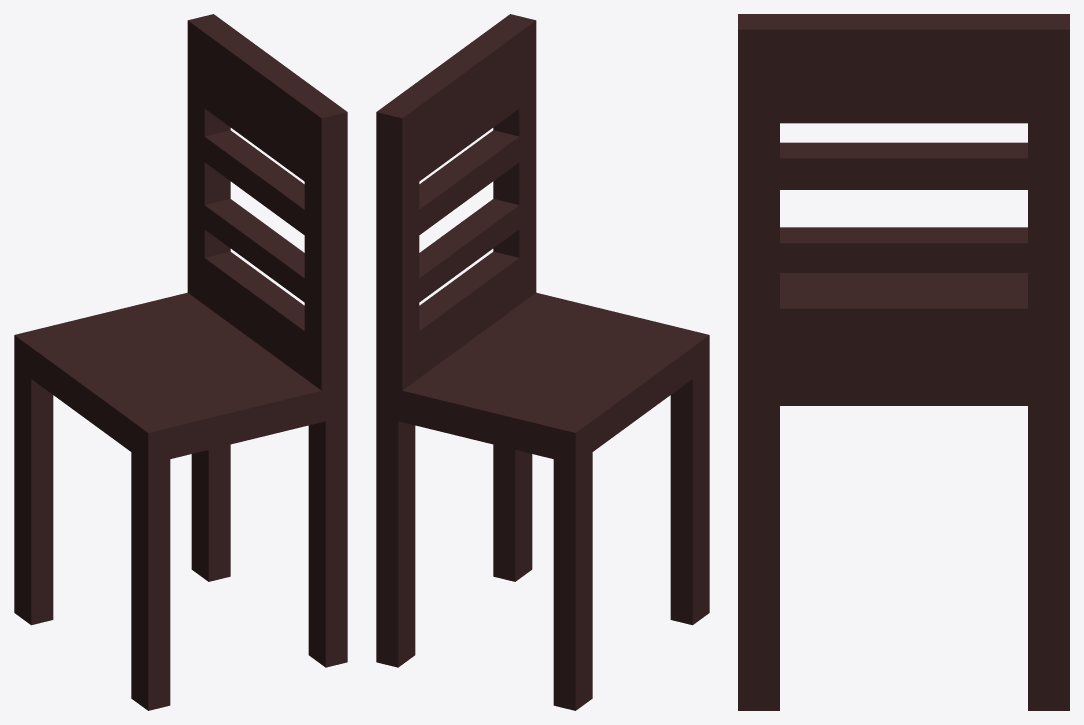
File: ChairFinal.fbx
3 views of the same model, side by side, from view 1: azimuth 30°, elevation 25°; view 2: azimuth 150°, elevation 25°; view 3: azimuth 270°, elevation 25° (orthographic). The views are drawn at different scales.
Parts seen in each view (by area): view 1: Back, Legs, Seat; view 2: Back, Legs, Seat; view 3: Back, Legs, Seat.
Part boxes in pixels (bbox=[...]): Back: bbox=[187, 14, 347, 390]; Legs: bbox=[14, 367, 347, 710]; Seat: bbox=[14, 292, 347, 464]; Back: bbox=[376, 14, 536, 390]; Legs: bbox=[376, 367, 709, 710]; Seat: bbox=[376, 292, 709, 464]; Back: bbox=[738, 14, 1069, 366]; Legs: bbox=[738, 406, 1069, 710]; Seat: bbox=[738, 273, 1069, 405].
Bounding box in the file's own units: 115 × 304 × 134.
